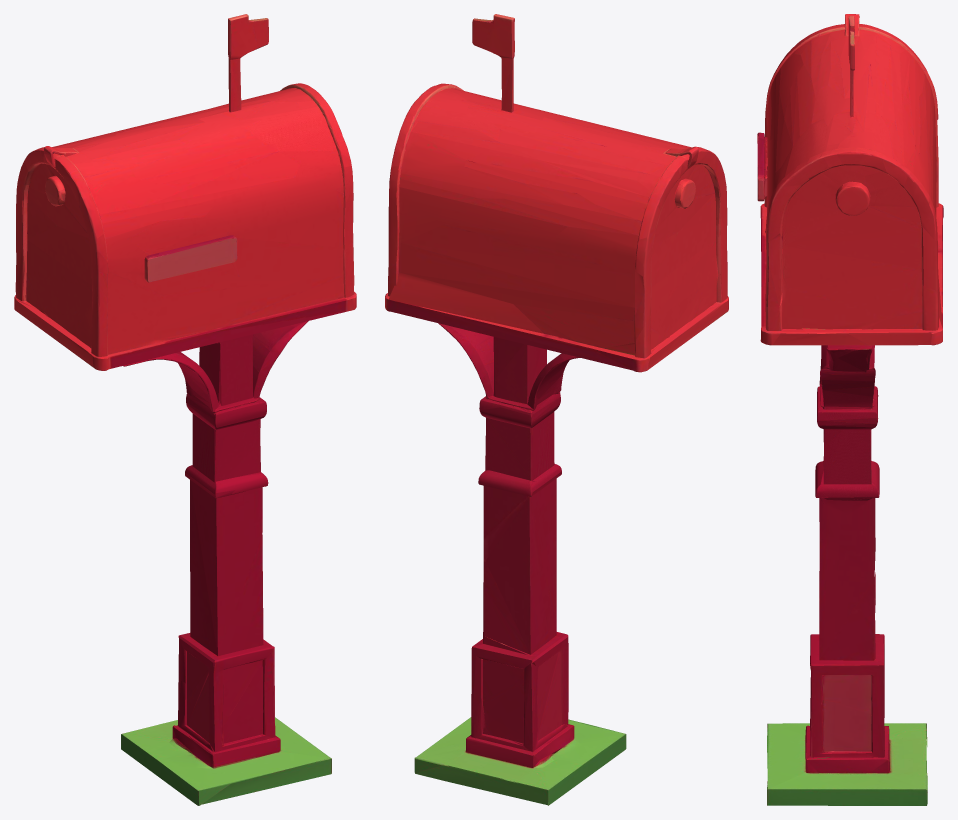
Rendered from mailbox.glb.
3 renders of one model, left to right at view 1: azimuth 30°, elevation 25°; view 2: azimuth 150°, elevation 25°; view 3: azimuth 270°, elevation 25°, orthographic. The views are drawn at different scales.
Size of the model in its own units: 0.7276 by 1.9 by 0.4224.
1 material, 1 textured.
